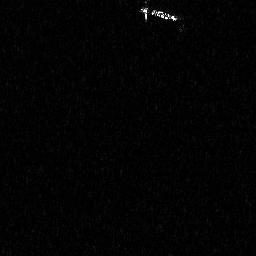ship: (139, 5, 179, 23)
